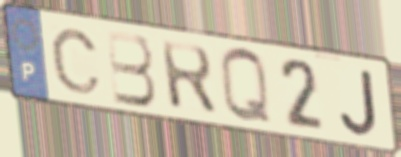2: (278, 57, 327, 134)
B: (104, 28, 159, 109)
C: (48, 26, 105, 96)
J: (338, 67, 380, 138)
Q: (217, 45, 275, 128)
R: (158, 39, 220, 118)
